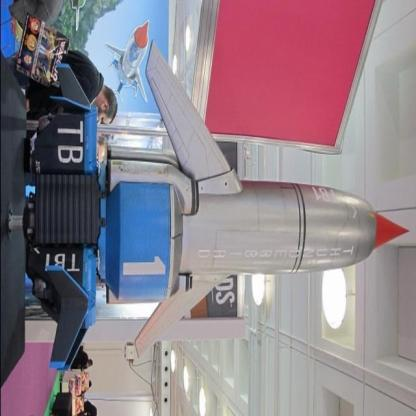MIL_TBM: (176, 178, 409, 276)
